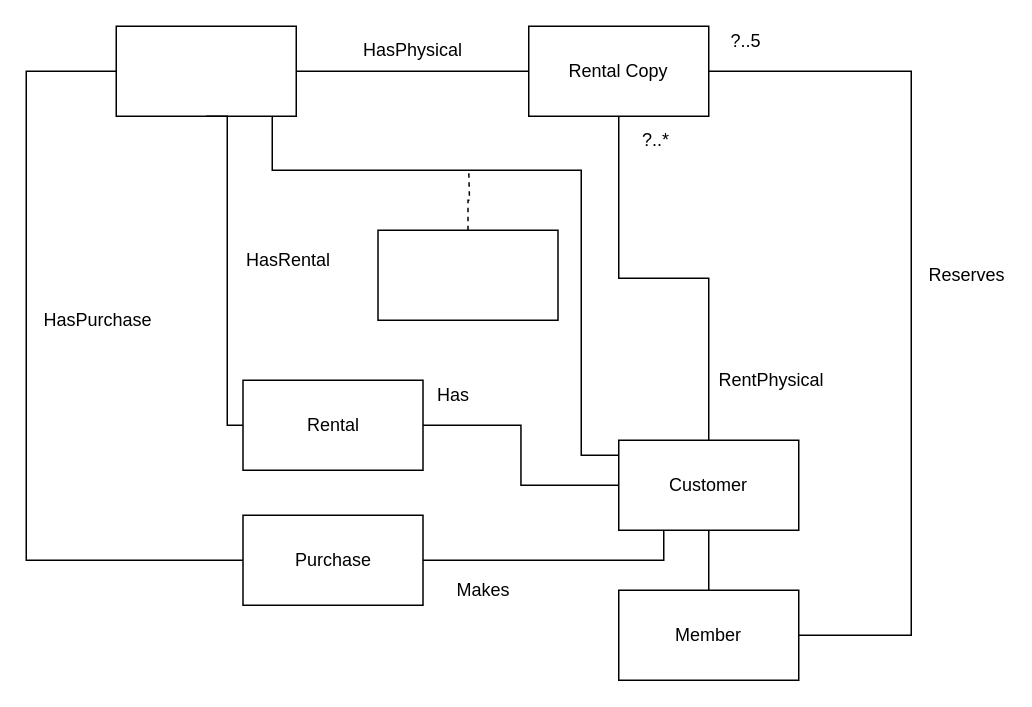
This 1032x707 diagram has some shape labels left out. The shapes that lost their labels are listed below. From the top down, each one's centre as x and y in pixels, then its label:
(205,70): Movie
(467,274): Reviews
